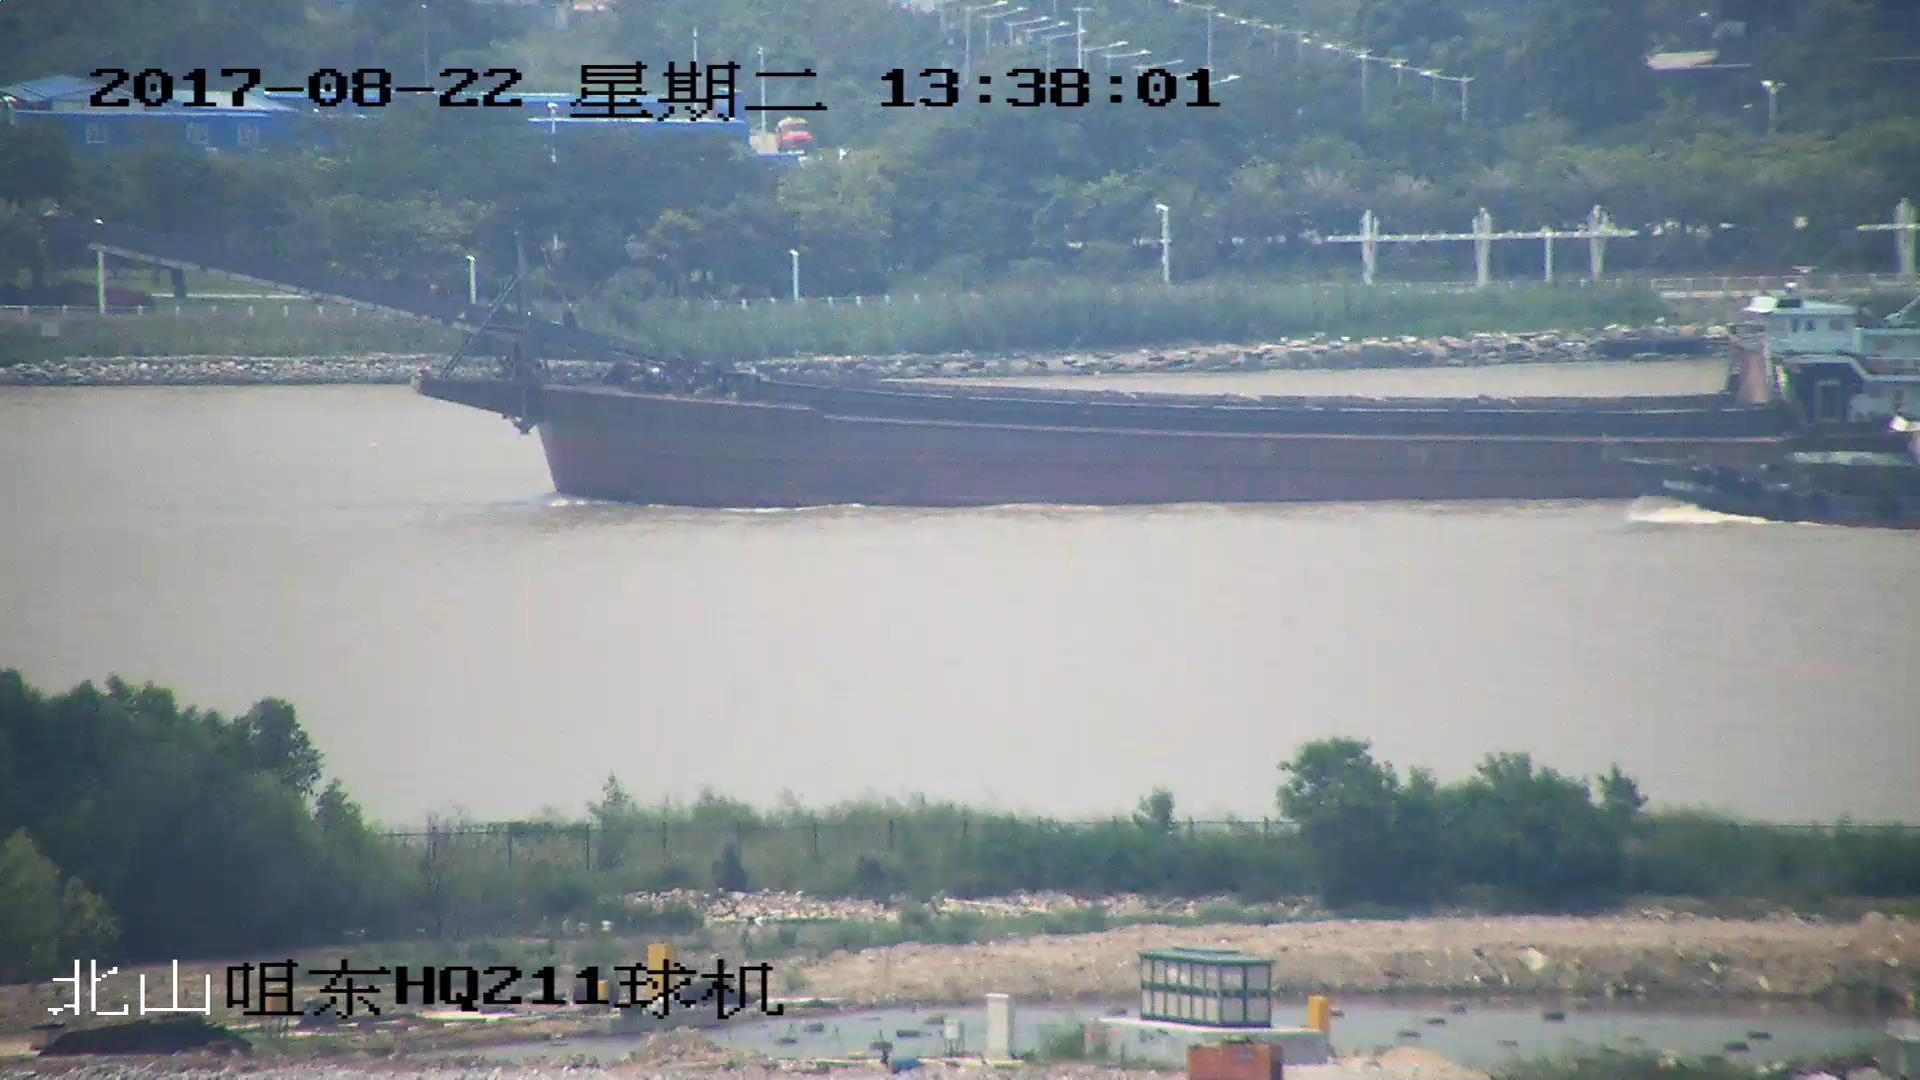bulk cargo carrier: (57, 208, 1920, 504)
passenger ship: (1618, 429, 1920, 527)
